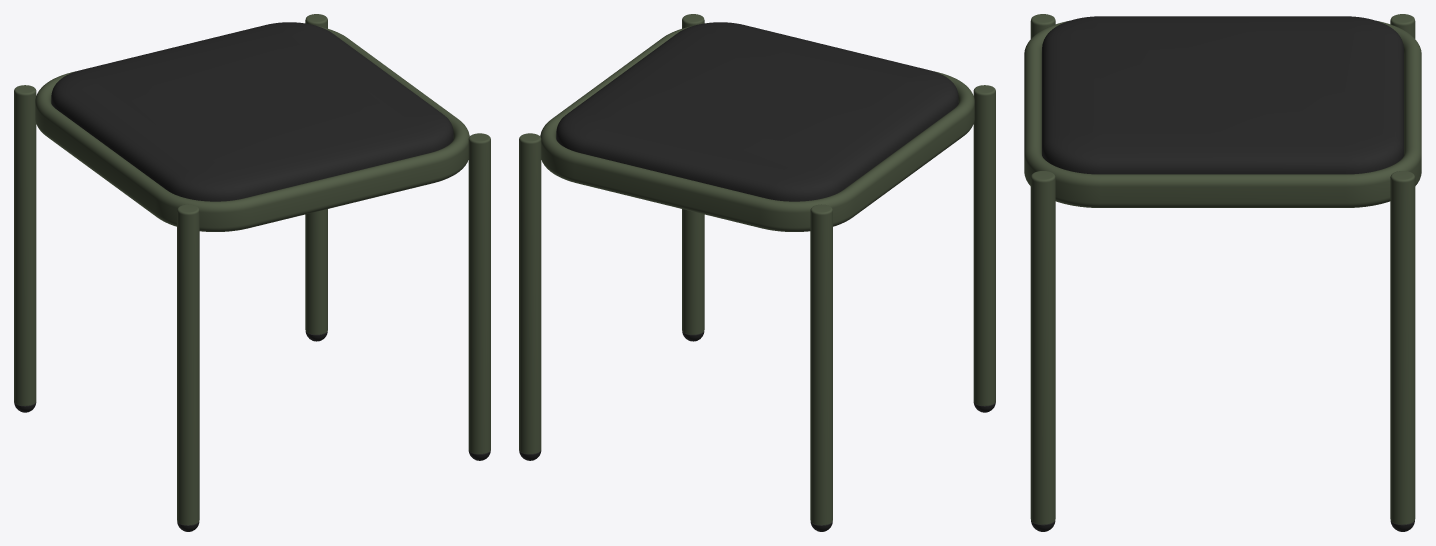
The model's file is stool-noname.glb.
The picture shows the model from 3 angles, left to right: view 1: azimuth 30°, elevation 25°; view 2: azimuth 150°, elevation 25°; view 3: azimuth 270°, elevation 25°; orthographic projection. The views are drawn at different scales.
Visible parts, largest first — view 1: rb_stool_noname; view 2: rb_stool_noname; view 3: rb_stool_noname.
Part boxes in pixels (box(x1,y1,x2,y2)): rb_stool_noname: box(14, 14, 490, 531); rb_stool_noname: box(519, 14, 995, 531); rb_stool_noname: box(1024, 14, 1421, 531).
Bounding box in the file's own units: 0.448 × 0.4658 × 0.45.
